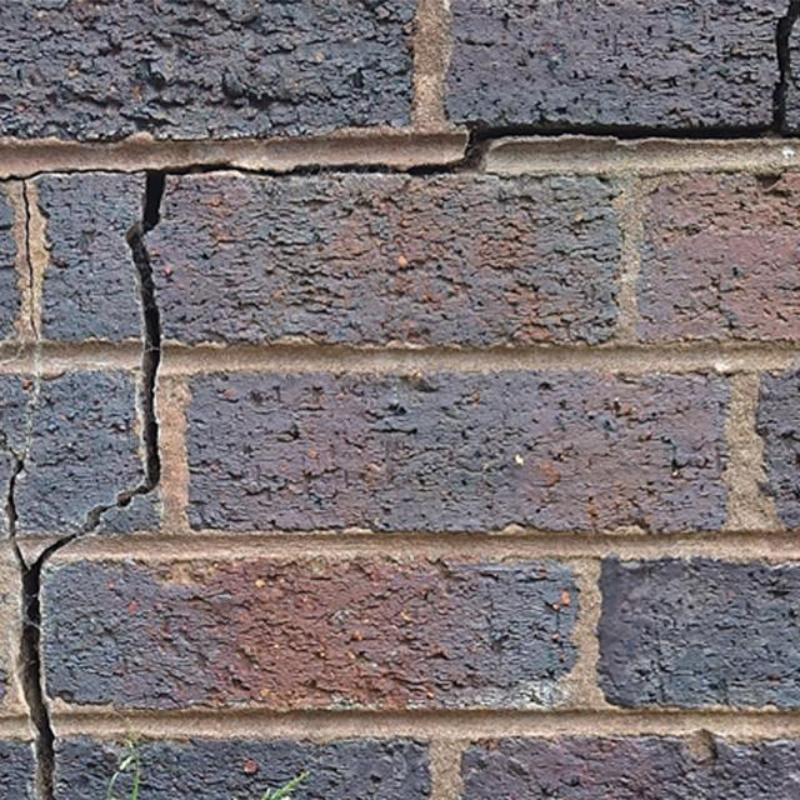crack: (0, 0, 799, 799), (0, 168, 158, 342)
